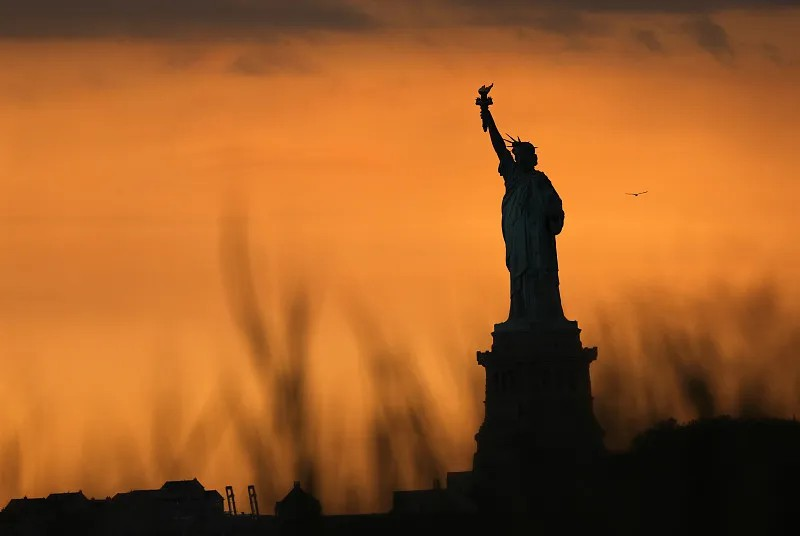SL: (471, 83, 604, 474)
